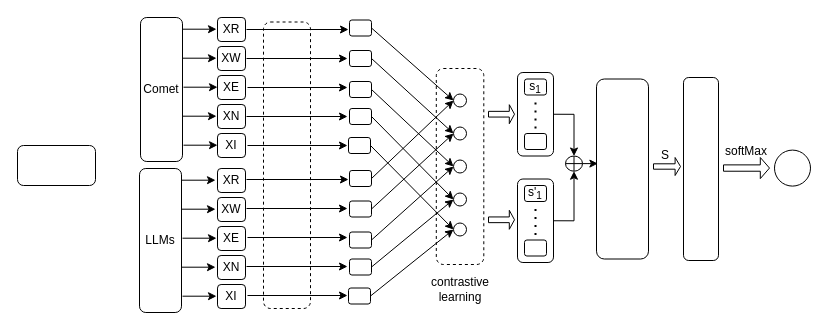
Image size: 828x330. Some labels were removed from this diagram. The shapes that lost their labels are listed below. From the top down, each one's centre as x and y in pixels, then its label:
At pixel 535 141: "s 5".
At pixel 56 165: "context".
At pixel 286 164: "Encoder".
At pixel 622 168: "self- attention".
At pixel 700 168: "MLP".
At pixel 792 167: "E i".
At pixel 535 247: "s' 5".
